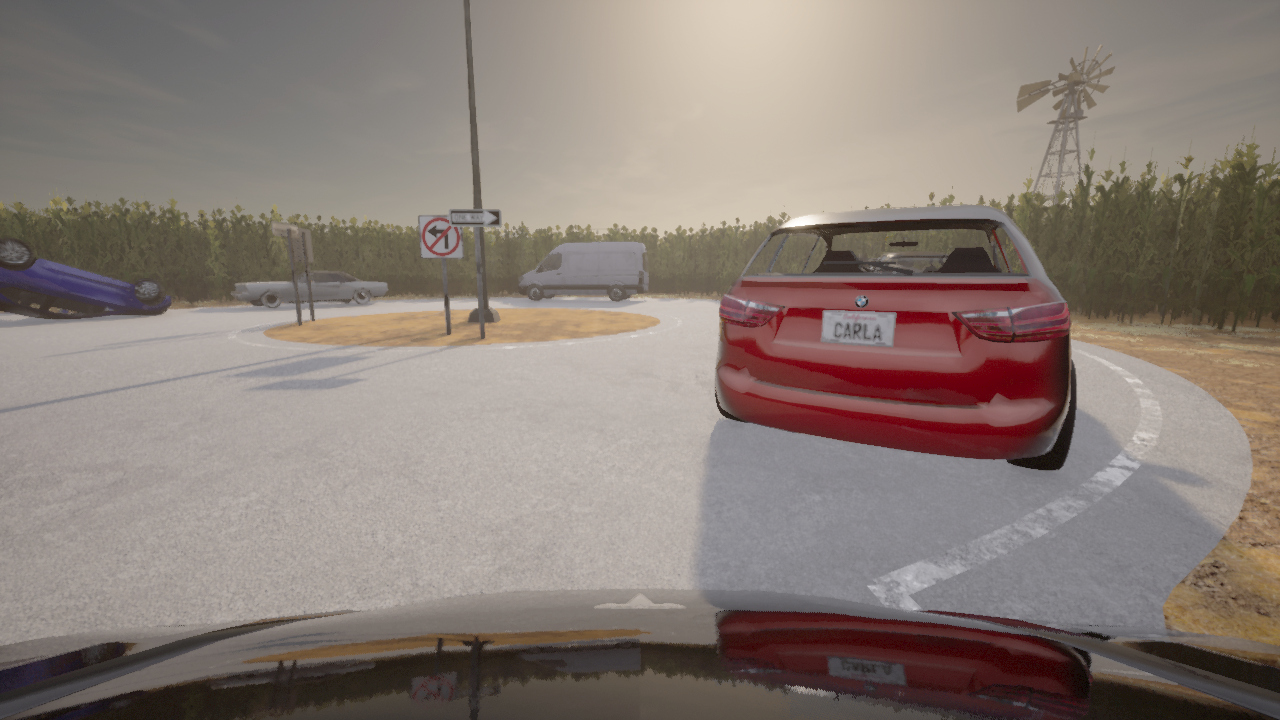cyclist: (0, 588, 1279, 719), (714, 204, 1076, 470), (0, 237, 171, 319), (517, 241, 648, 301), (230, 271, 387, 308)
